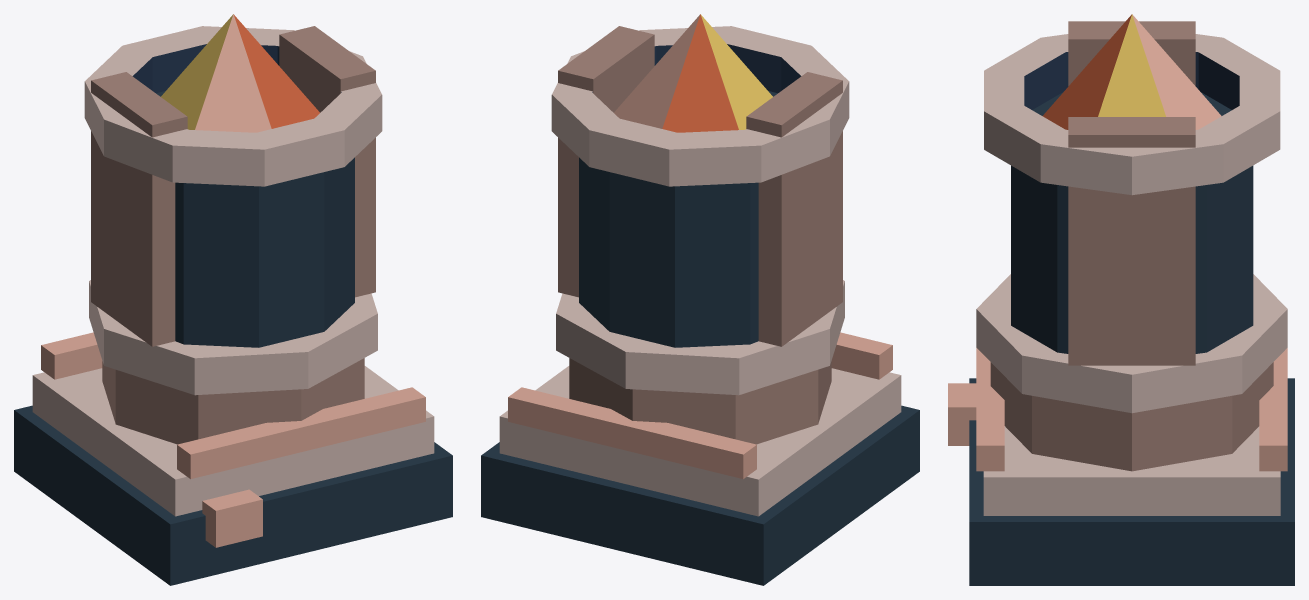
The model's file is module-fire.glb.
3 views of the same model, side by side, from view 1: azimuth 30°, elevation 25°; view 2: azimuth 150°, elevation 25°; view 3: azimuth 270°, elevation 25° (orthographic). The views are drawn at different scales.
Visible parts, largest first — view 1: 烬火反应器; view 2: 烬火反应器; view 3: 烬火反应器.
Boxes of the visible parts, x1,y1,x2,y2 form: 烬火反应器: (14, 14, 452, 585); 烬火反应器: (481, 14, 919, 585); 烬火反应器: (948, 14, 1294, 585).
Size of the model in its own units: 0.24 by 0.39 by 0.245.
